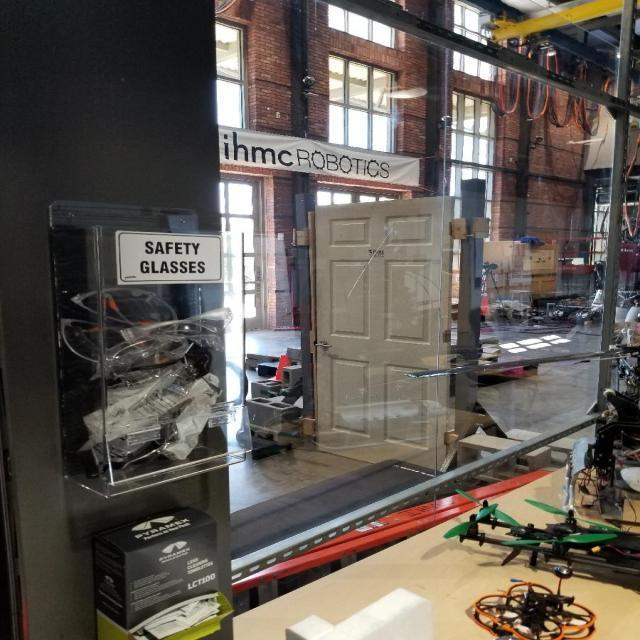door: (312, 195, 456, 484), (313, 341, 337, 351)
